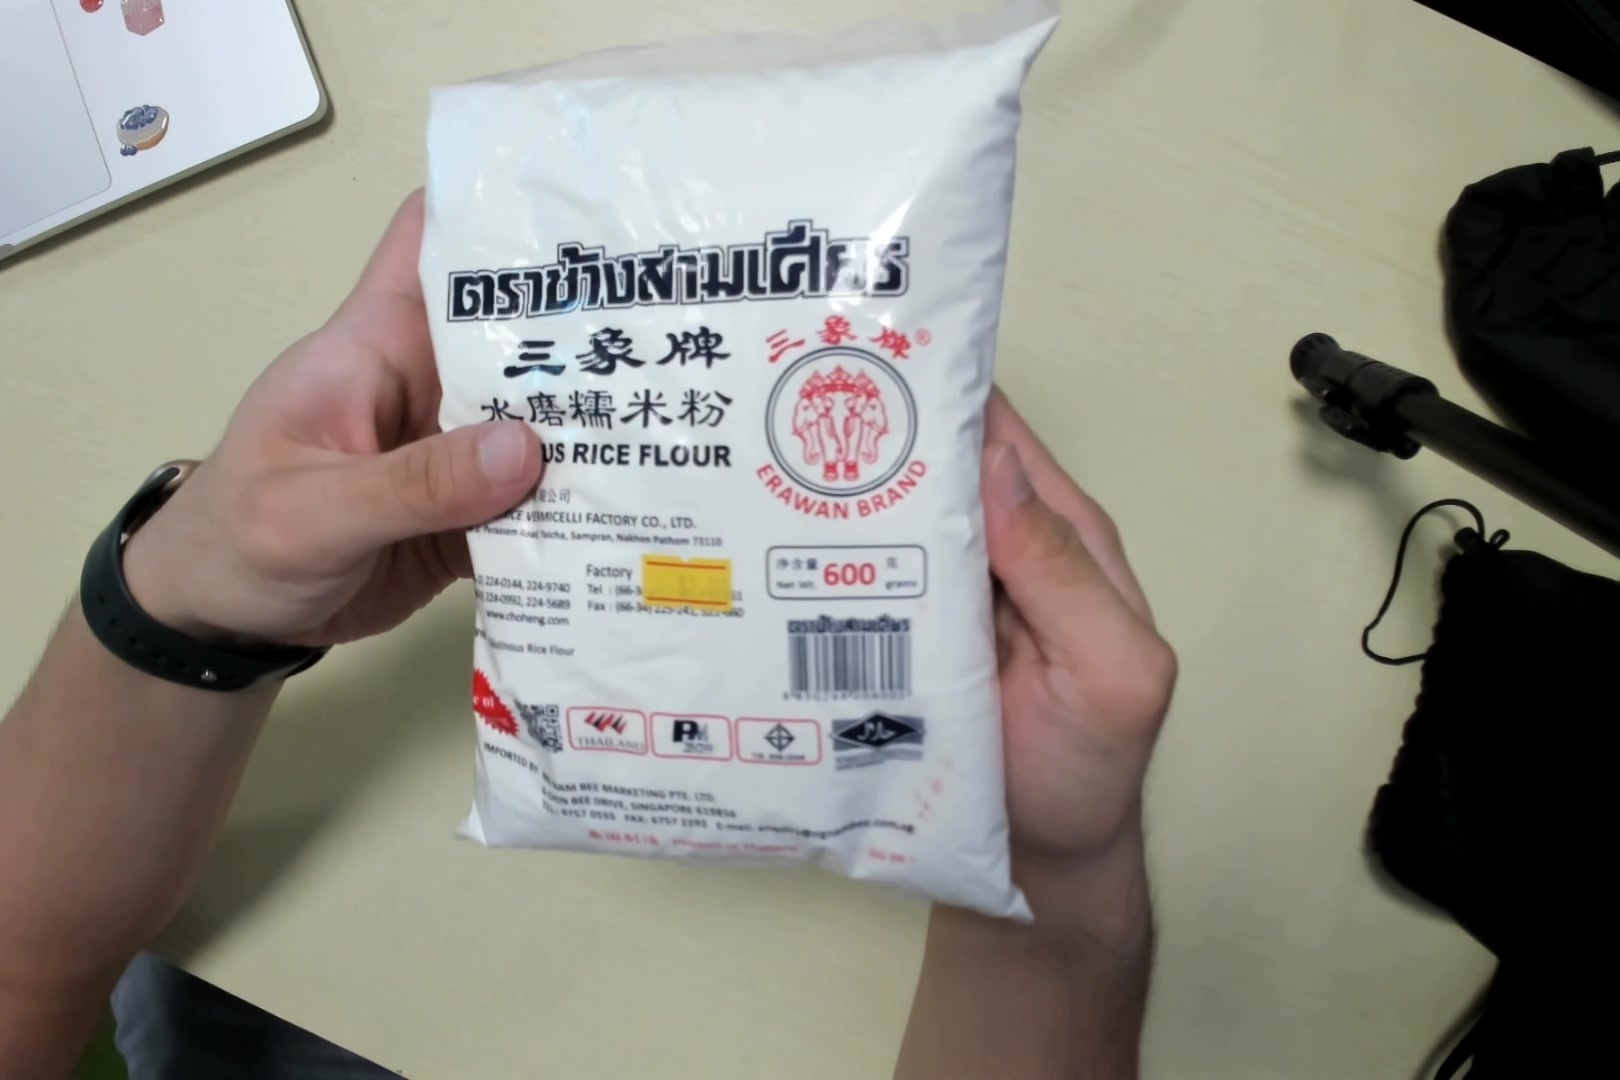OtherBakingNeeds_600-699g_Halal_NonHealthy: (417, 6, 1050, 929)
